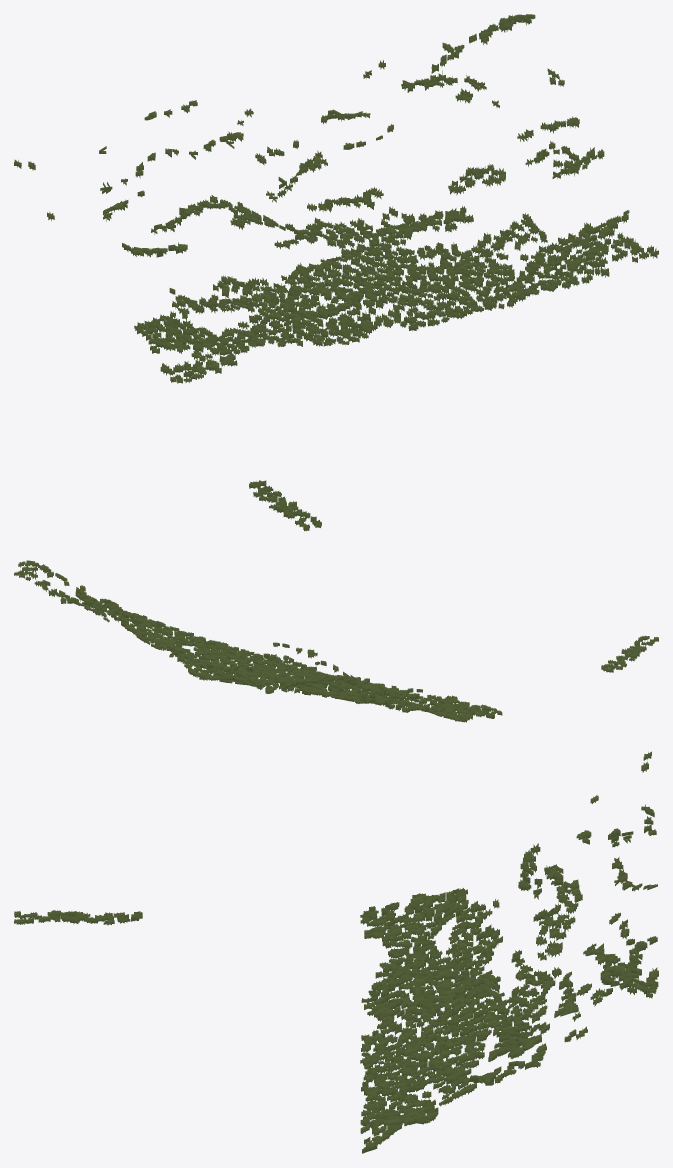
The model's file is TRB8-GRASS-CHUNK-5-2.glb.
3 renders of one model, top to bottom at view 1: azimuth 30°, elevation 25°; view 2: azimuth 150°, elevation 25°; view 3: azimuth 270°, elevation 25°, orthographic. The views are drawn at different scales.
Parts seen in each view (by area): view 1: TRB8-GRASS-CHUNK-5-2; view 2: TRB8-GRASS-CHUNK-5-2; view 3: TRB8-GRASS-CHUNK-5-2.
Boxes of the visible parts, bbox=[...] form: TRB8-GRASS-CHUNK-5-2: bbox=[14, 14, 658, 531]; TRB8-GRASS-CHUNK-5-2: bbox=[14, 560, 658, 722]; TRB8-GRASS-CHUNK-5-2: bbox=[14, 751, 658, 1153].
Size of the model in its own units: 40.52 by 13.89 by 40.48.
Materials: 1 (1 with a texture image).
